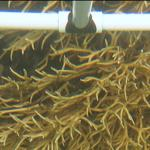alive: (9, 33, 148, 148)
